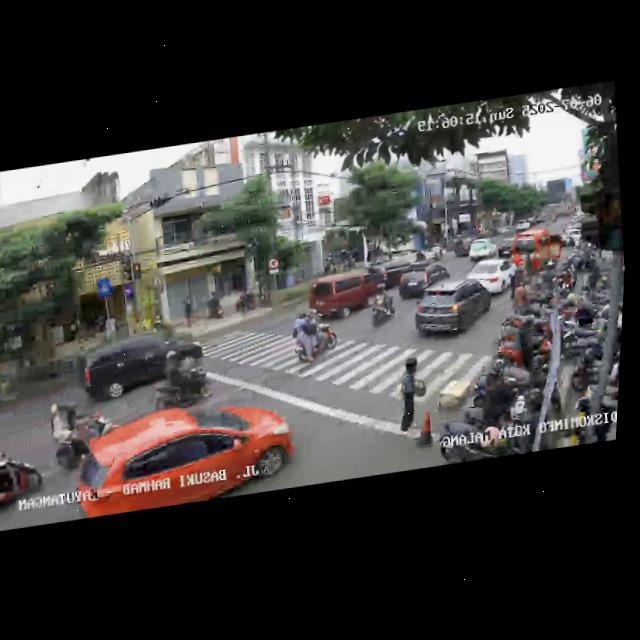car: (69, 390, 298, 519), (76, 325, 209, 405), (409, 273, 495, 344), (303, 265, 389, 324), (0, 438, 53, 522), (511, 226, 565, 278), (395, 257, 453, 303), (463, 255, 520, 299), (467, 236, 497, 261), (448, 234, 472, 258), (496, 235, 516, 259)
motorcycle: (44, 398, 115, 475), (147, 344, 218, 411), (287, 306, 341, 370), (365, 278, 399, 328)
person: (390, 358, 430, 442)
